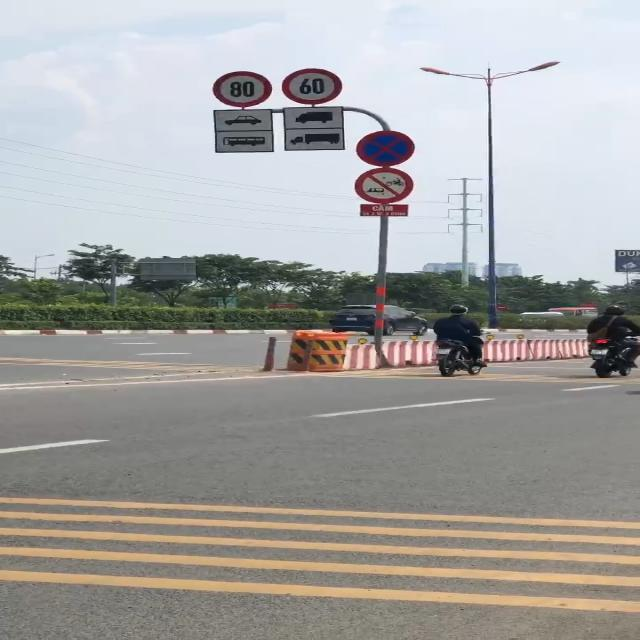Bien bao cam dung xe va do xe: (351, 128, 422, 167)
Bien bao toc do toi da cho phep: (278, 66, 351, 105), (210, 68, 274, 108)
